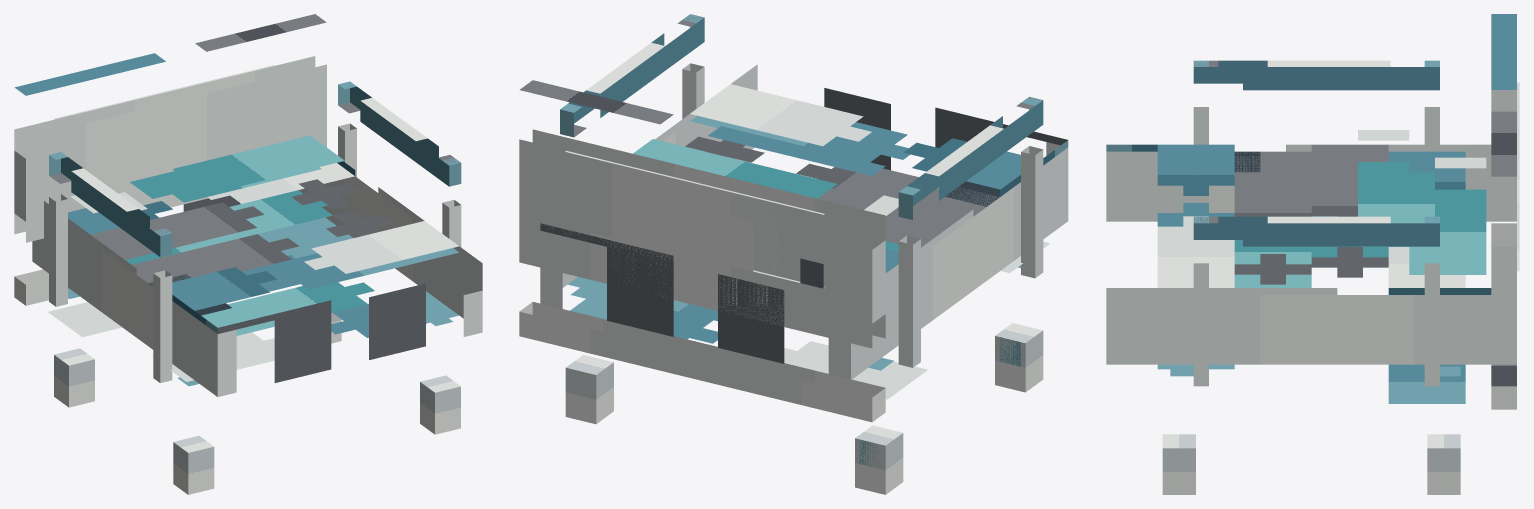
Rendered from lab_medical_bed_head.obj.
3 renders of one model, left to right at view 1: azimuth 30°, elevation 25°; view 2: azimuth 150°, elevation 25°; view 3: azimuth 270°, elevation 25°, orthographic. The views are drawn at different scales.
Size of the model in its own units: 0.9375 by 0.875 by 1.01.
